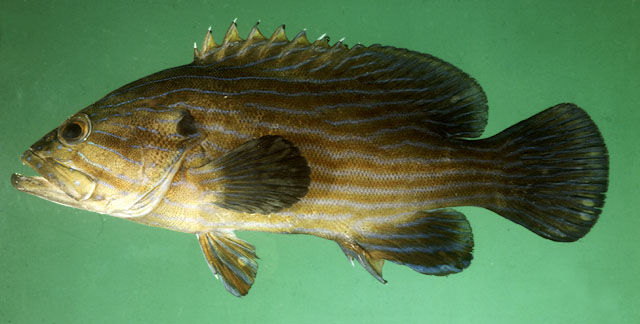fish: (8, 19, 610, 298)
